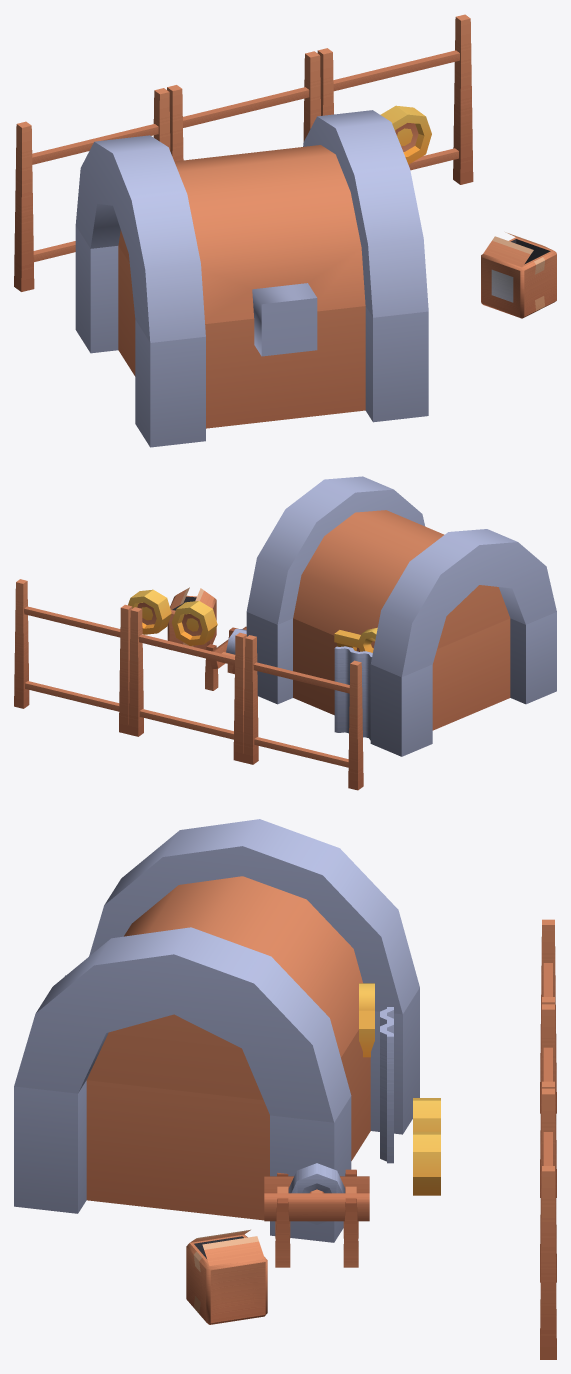
The model's file is bld_practice_yard_3x2.glb.
3 renders of one model, top to bottom at view 1: azimuth 30°, elevation 25°; view 2: azimuth 150°, elevation 25°; view 3: azimuth 270°, elevation 25°, orthographic. The views are drawn at different scales.
Parts seen in each view (by area): view 1: lid, chest, fence3, fence, box-open, fence2, coin-gold2; view 2: lid, chest, fence, fence2, fence3, metal-panel-narrow, coin-gold, coin-gold2, box-open, workbench-grind, key; view 3: lid, chest, box-open, workbench-grind, fence3, metal-panel-narrow, coin-gold2, fence, fence2, wheel, key, coin-gold.
Boxes of the visible parts, box(x1,y1,x2,y2) form: lid: box(75, 110, 428, 356); chest: box(75, 226, 428, 447); fence3: box(317, 14, 473, 184); fence: box(14, 88, 170, 291); box-open: box(481, 232, 556, 318); fence2: box(167, 51, 320, 161); coin-gold2: box(380, 105, 431, 164); lid: box(246, 476, 556, 677); chest: box(246, 612, 556, 756); fence: box(243, 635, 363, 790); fence2: box(128, 607, 246, 762); fence3: box(14, 579, 132, 734); metal-panel-narrow: box(334, 646, 372, 740); coin-gold: box(171, 601, 217, 645); coin-gold2: box(128, 589, 171, 634); box-open: box(167, 587, 216, 650); workbench-grind: box(205, 626, 246, 690); key: box(334, 627, 377, 652); lid: box(14, 819, 419, 1122); chest: box(14, 988, 419, 1242); box-open: box(186, 1229, 267, 1324); workbench-grind: box(264, 1169, 369, 1267); fence3: box(540, 1088, 556, 1359); metal-panel-narrow: box(380, 1007, 393, 1163); coin-gold2: box(413, 1131, 440, 1195); fence: box(540, 919, 556, 1175); fence2: box(540, 1004, 556, 1260); wheel: box(288, 1163, 345, 1224); key: box(359, 983, 374, 1057); coin-gold: box(413, 1098, 440, 1131).
Bounding box in the file's own units: 3.42 × 1.49 × 2.72.
Materials: 7 (7 with a texture image).
